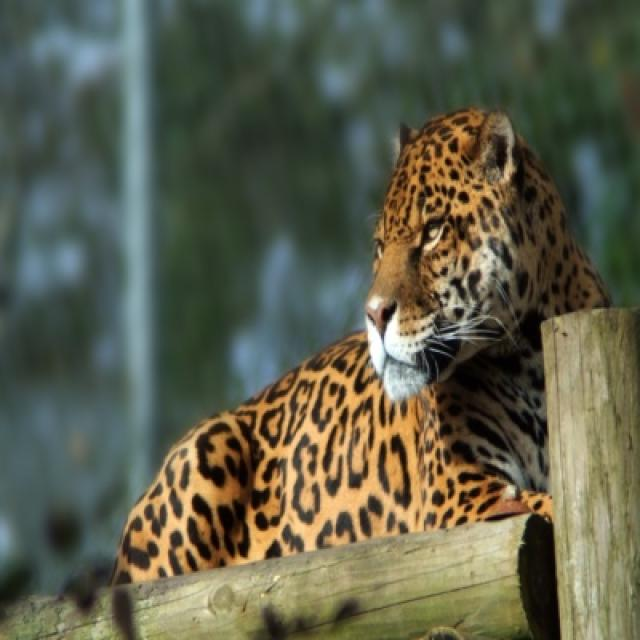Jaguar: (107, 109, 611, 589)
